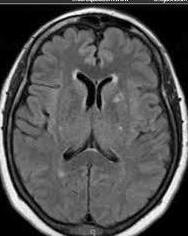Normal_Brain: (1, 1, 188, 236)
